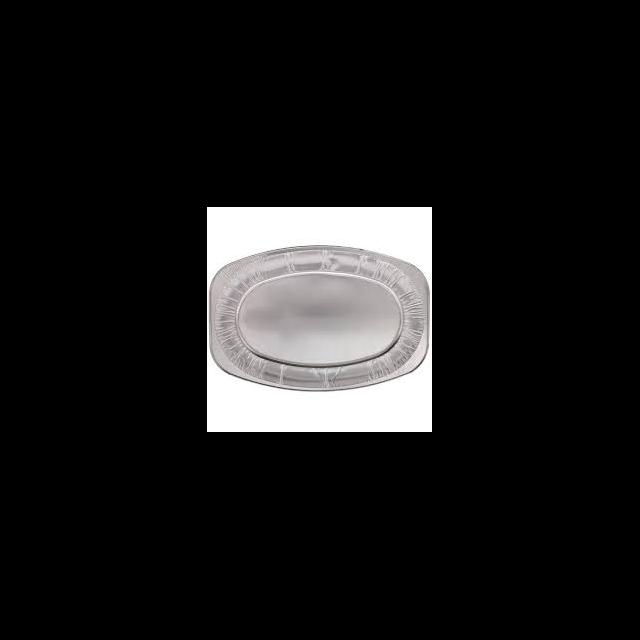metal: (208, 244, 430, 390)
